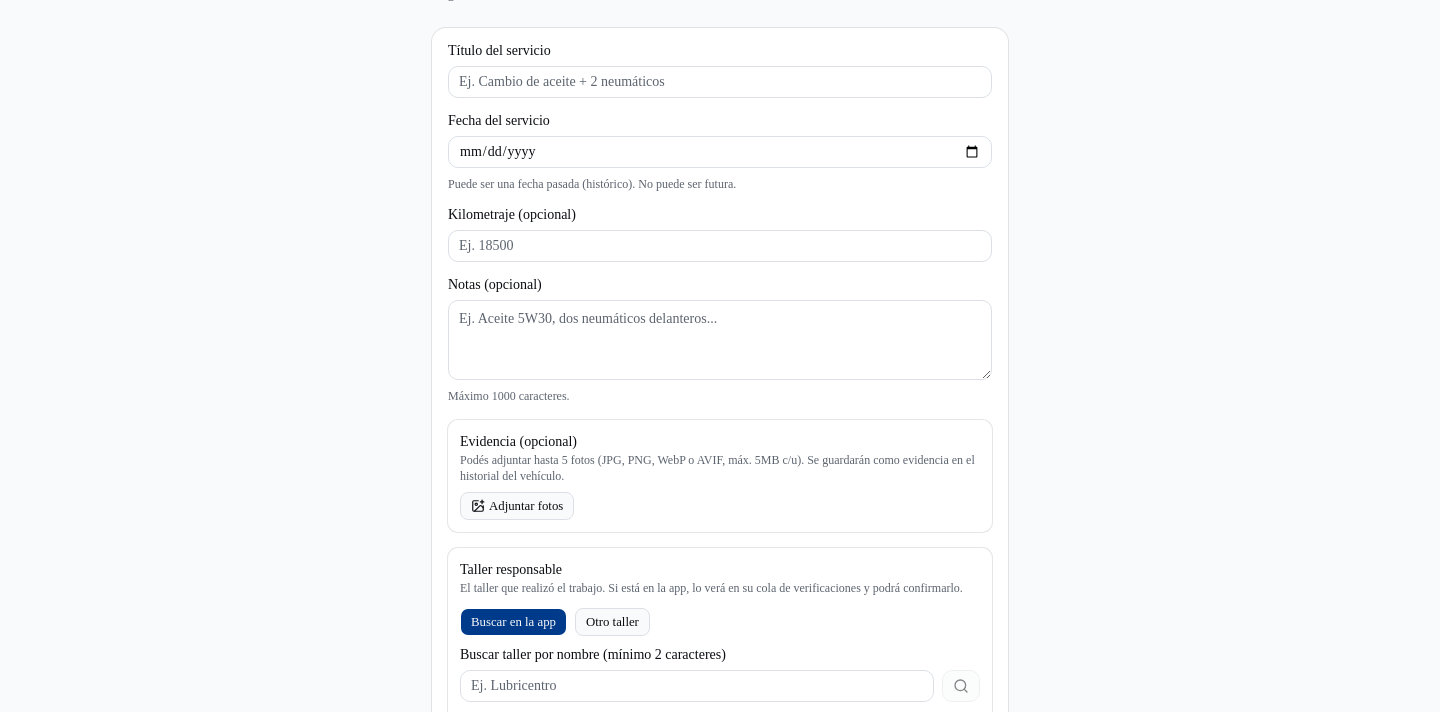
Test: Registrar servicio page (iteración 2-2) › muestra 429 con botón Reintentar que re-envía la solicitud
Type "Cambio de aceite + 2 neumáticos" into the field labelled "Título del servicio" at coordinates (720, 82), box [448,66,992,98]
Type "2026-06-15" into the date field labelled "Fecha del servicio" at coordinates (720, 152), box [448,136,992,168]
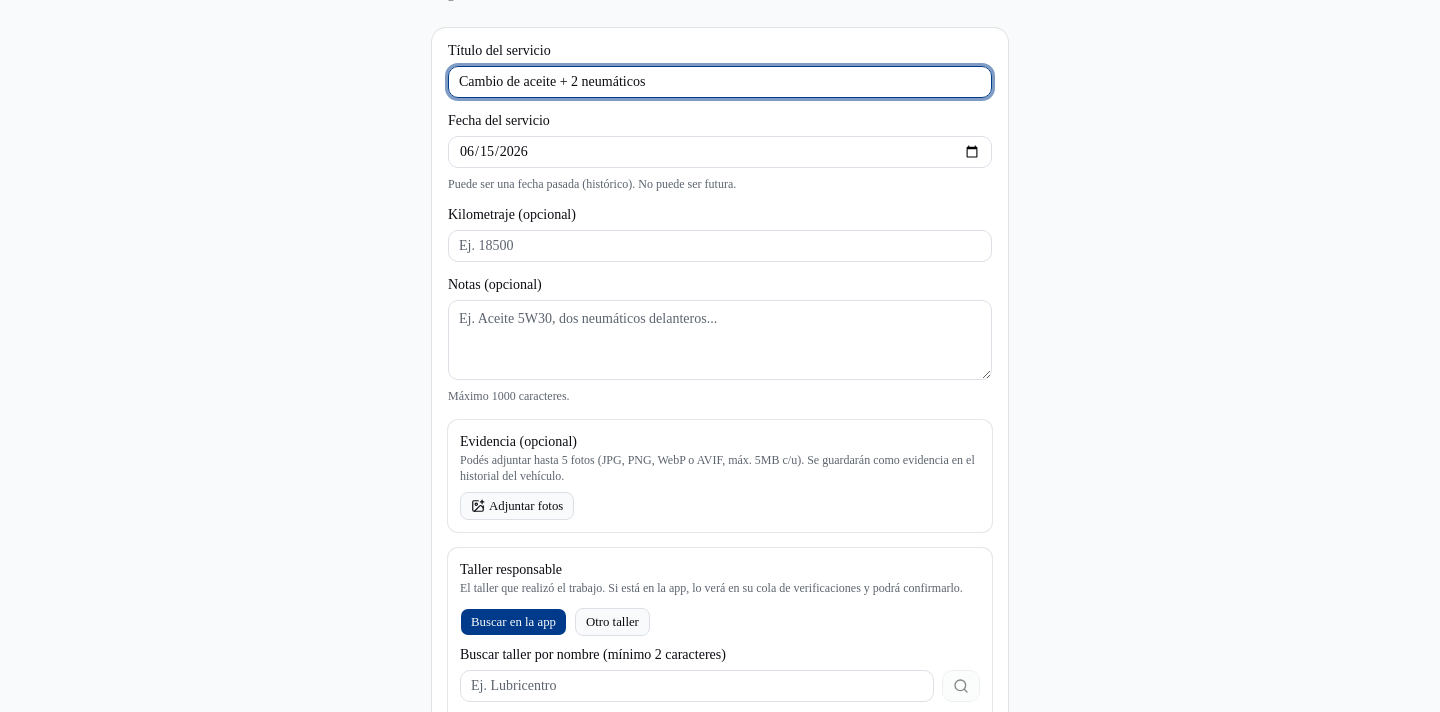
Type "Lubricentro" into the field labelled "Buscar taller por nombre (mínimo 2 caracteres)" at coordinates (697, 686), box [460,670,934,702]
(page scrolled)
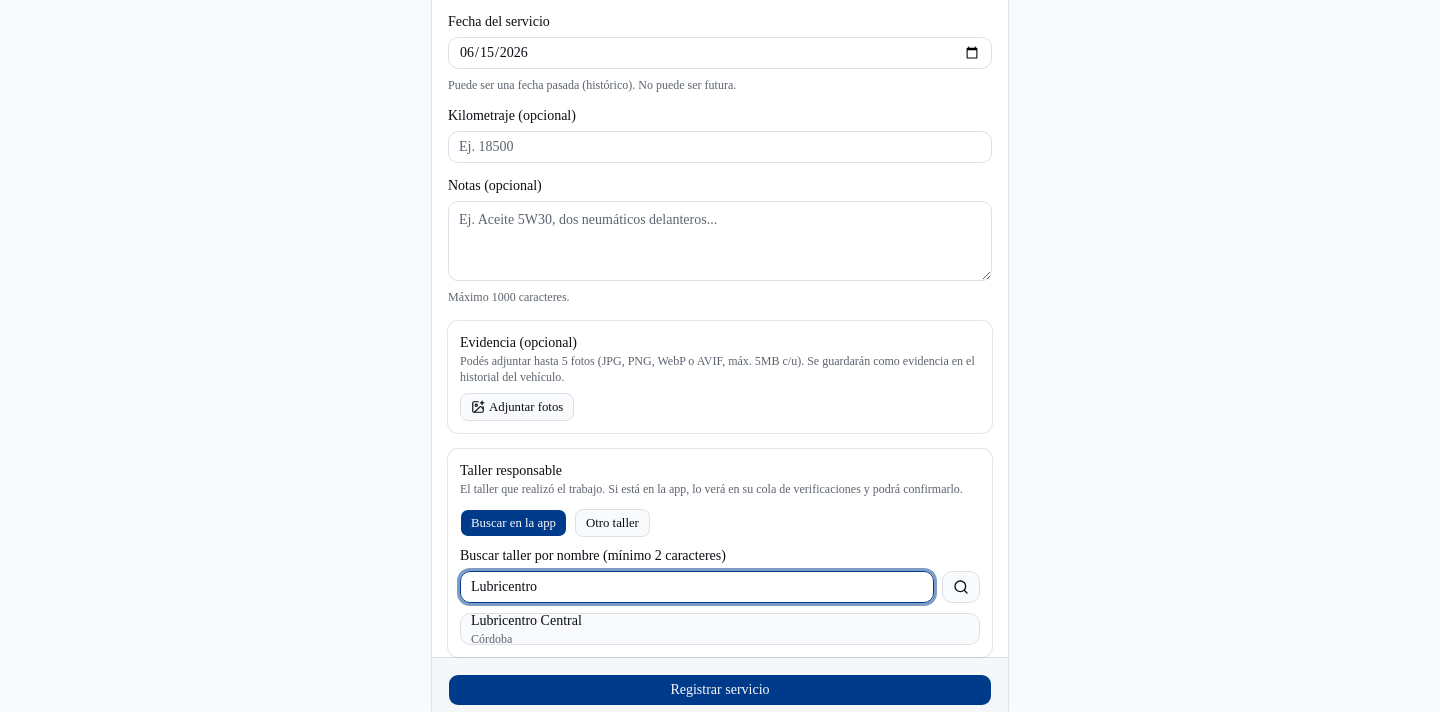
Click the button "Lubricentro Central Córdoba" at coordinates (526, 620), box [460,613,980,645]
(page scrolled)
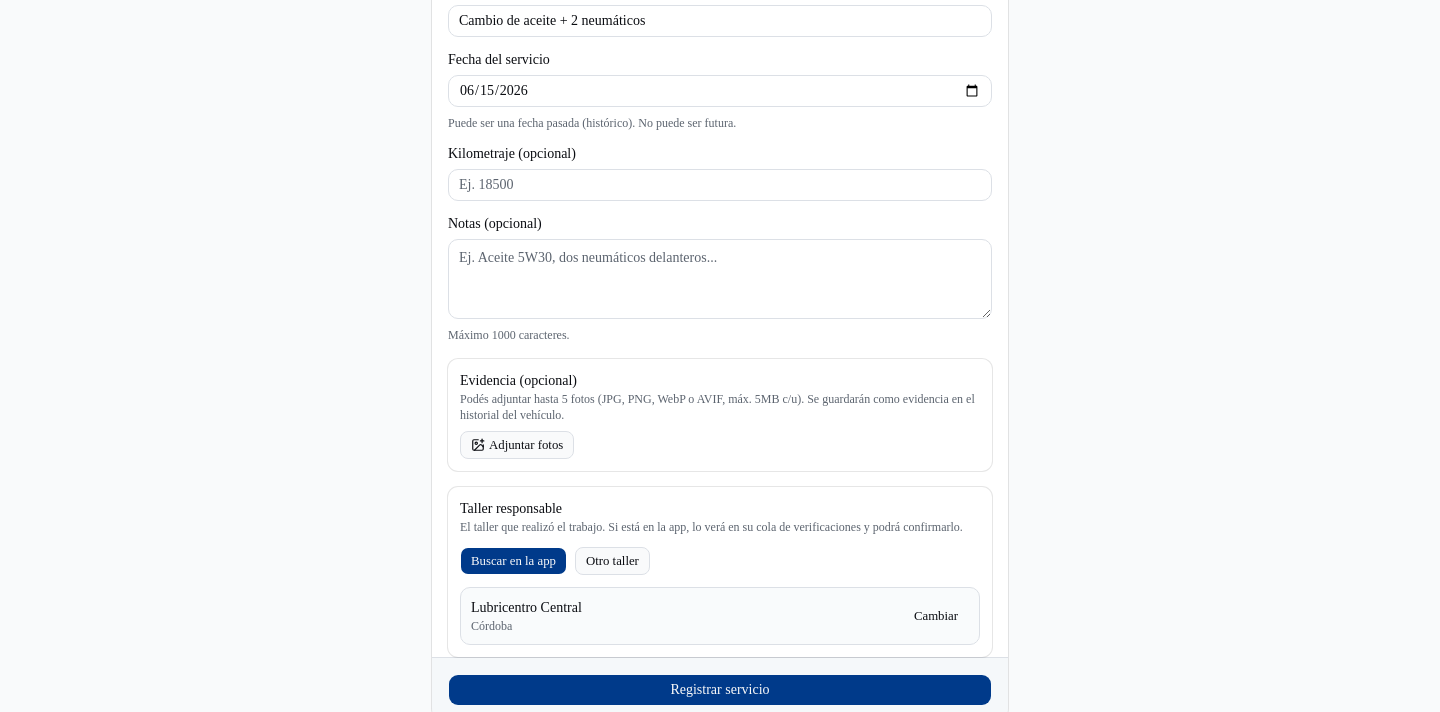
Click the button "Registrar servicio" at coordinates (720, 690), box [448,674,992,706]
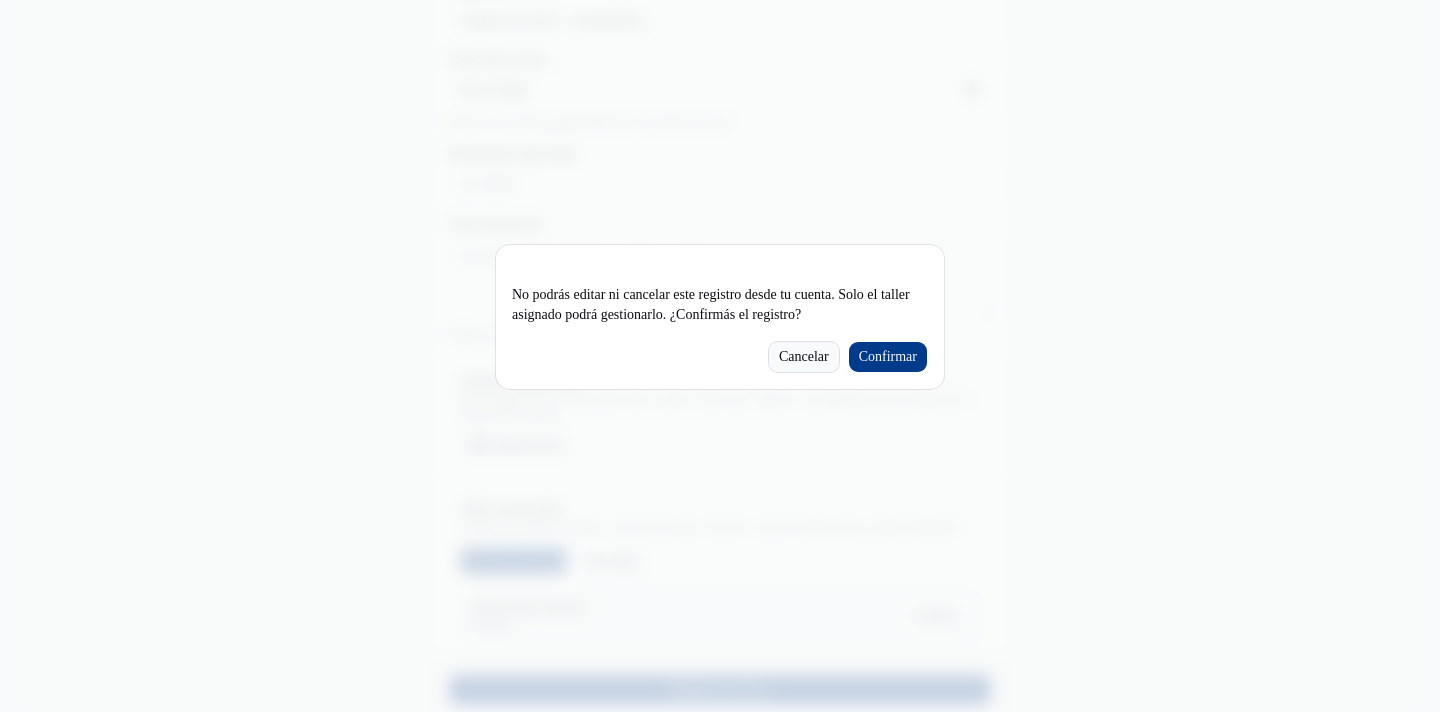
Check: the dialog is shown, box [496,245,944,389]
Click the button "Confirmar" at coordinates (888, 357), box [848,341,928,373]
(page scrolled)
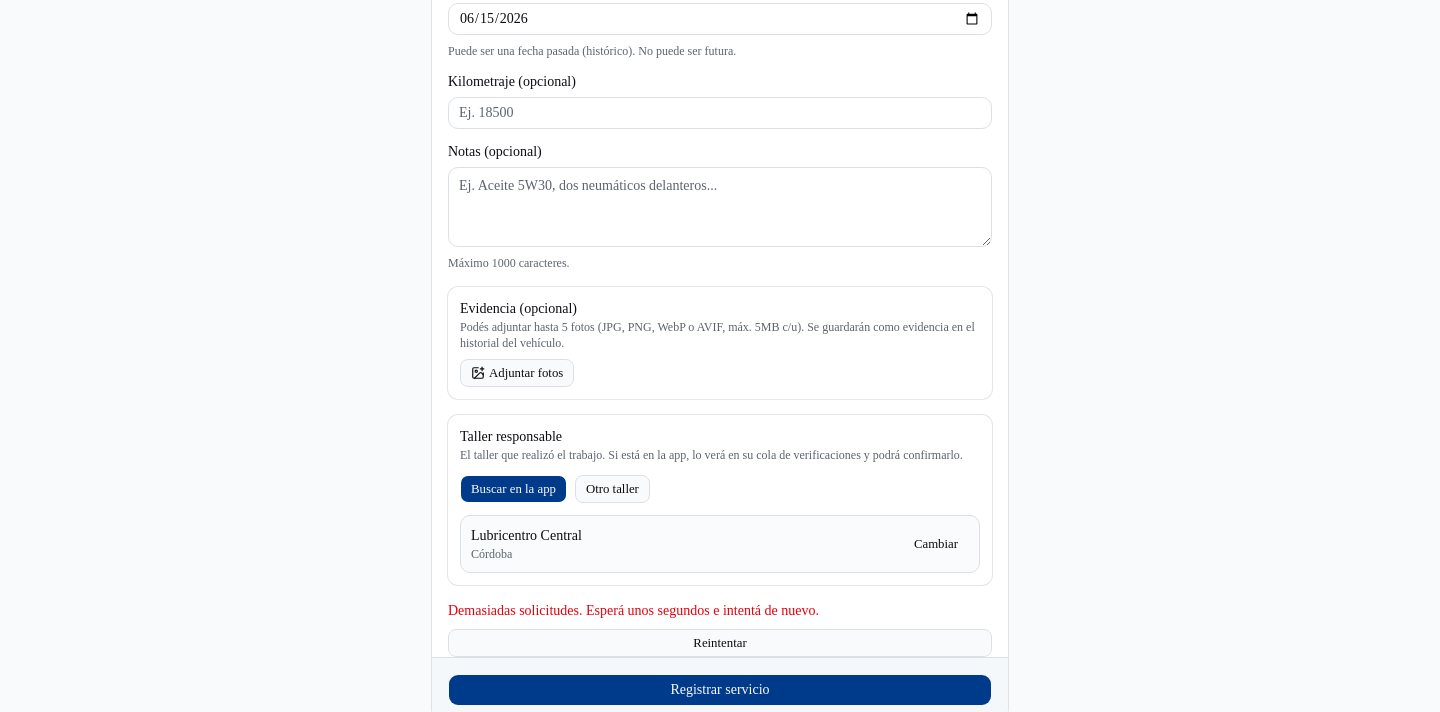
Check: the text "Demasiadas solicitudes. Esperá unos segundos" is shown, box [448,603,819,618]
Check: the dialog is gone
Click the button "Reintentar" at coordinates (720, 643), box [448,629,992,657]
(page scrolled)
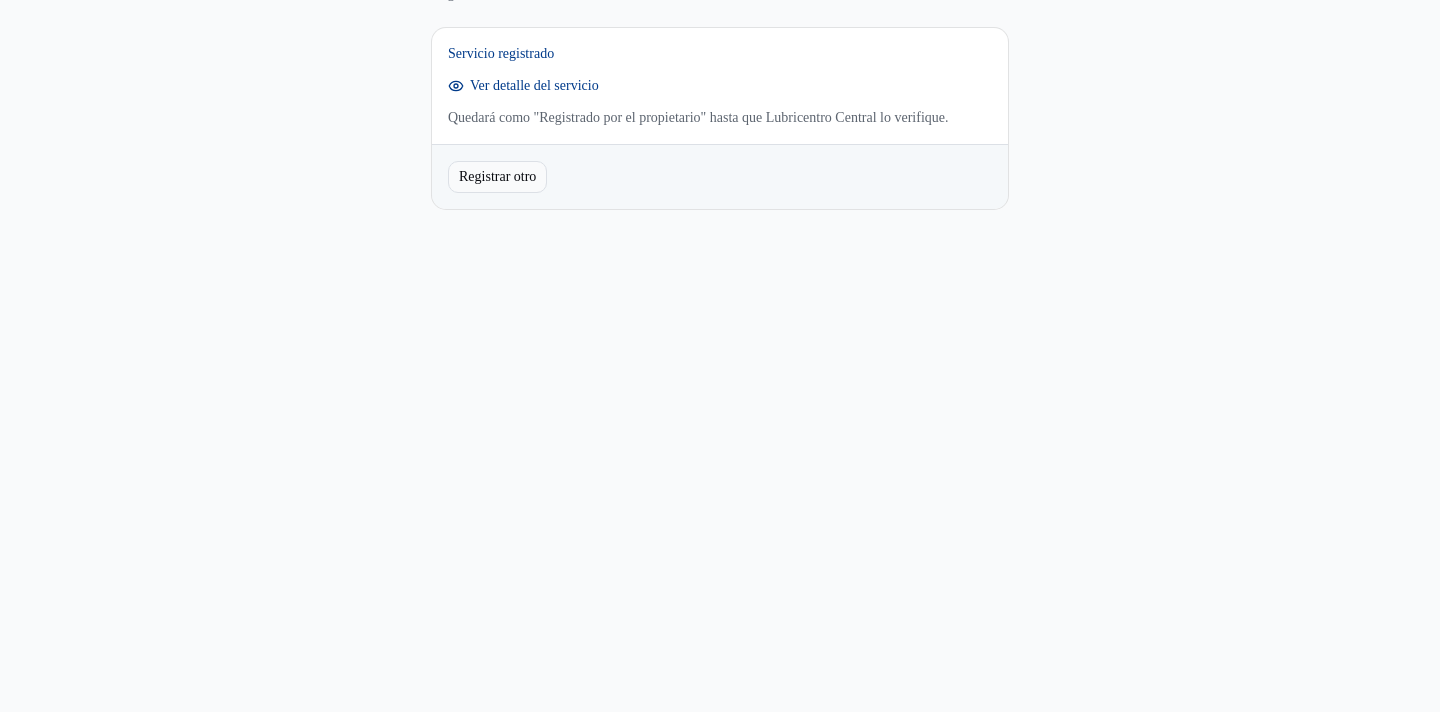
Check: the text "quedará como \"Registrado por el propietario\" hasta que Lubricentro Central lo verifique" is shown, box [448,108,992,128]
